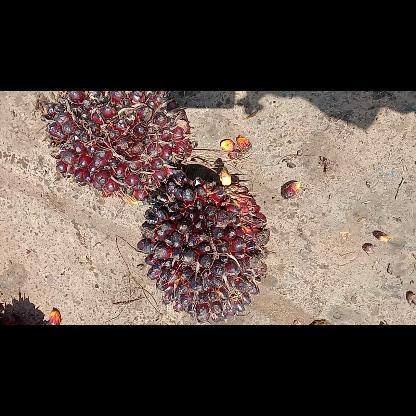Kurang masak: (136, 169, 270, 323), (38, 91, 196, 201)
